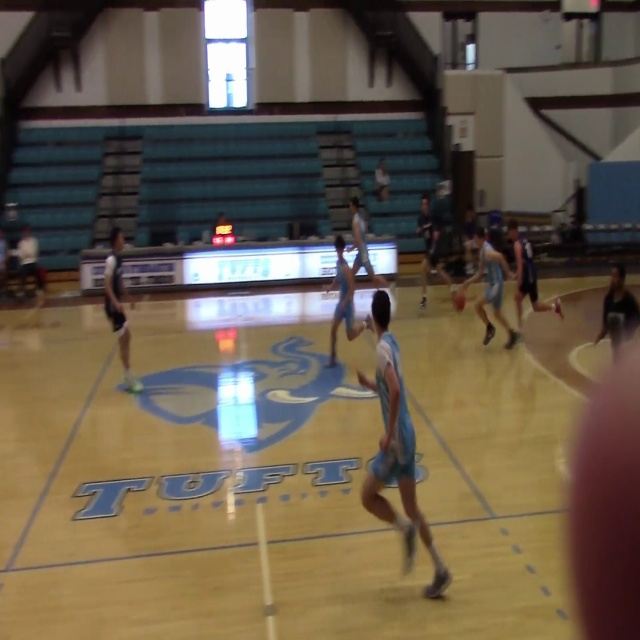Basketball: (453, 292, 465, 311), (132, 380, 144, 392)
